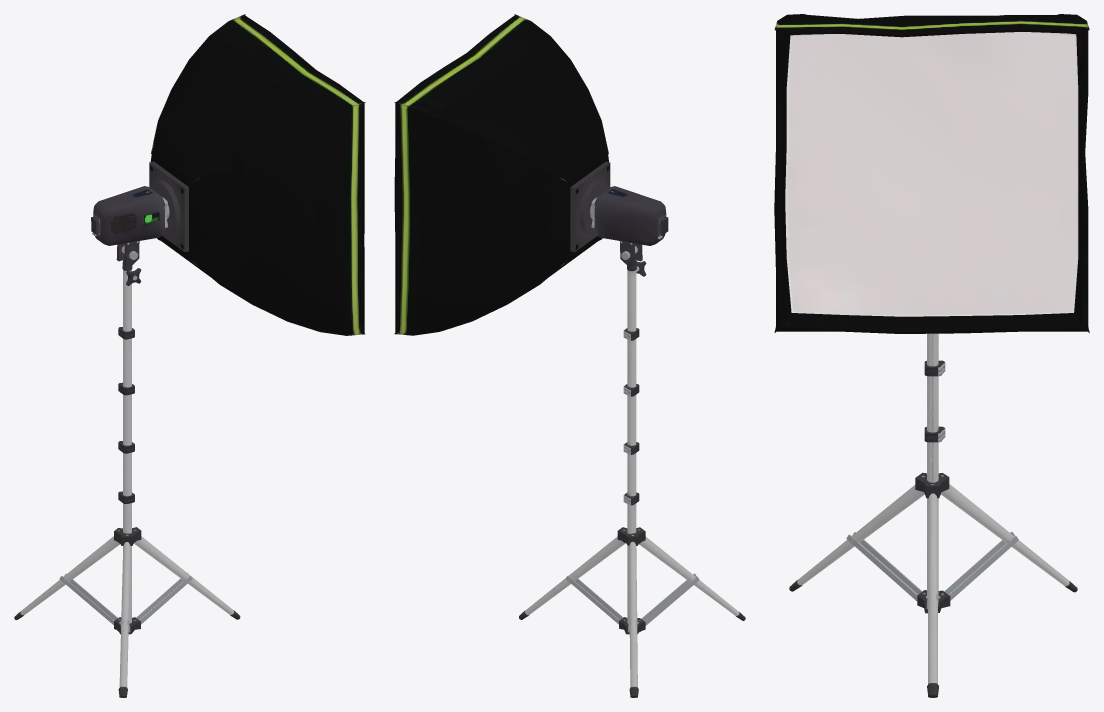
File: softbox.glb
The picture shows the model from 3 angles, left to right: view 1: azimuth 30°, elevation 25°; view 2: azimuth 150°, elevation 25°; view 3: azimuth 270°, elevation 25°; orthographic projection. The views are drawn at different scales.
Visible parts, largest first — view 1: Cube_Material.003_0; view 2: Cube_Material.003_0; view 3: Cube_Material.003_0.
Boxes of the visible parts, x1,y1,x2,y2 form: Cube_Material.003_0: [14, 14, 365, 697]; Cube_Material.003_0: [394, 14, 745, 697]; Cube_Material.003_0: [774, 14, 1089, 697].
Size of the model in its own units: 0.8977 by 1.95 by 0.781.
1 material, 1 textured.
